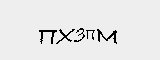З: (73, 25, 85, 46)
М: (93, 27, 119, 49)
П: (38, 27, 56, 47), (85, 26, 95, 45)
Х: (55, 27, 75, 50)
